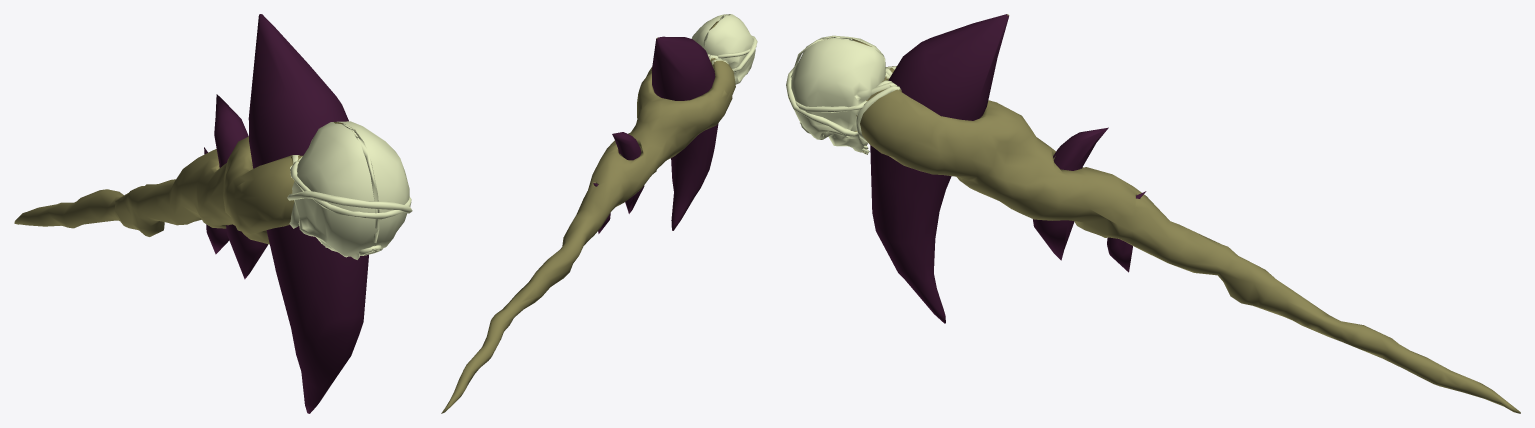
File: goblin_stick.fbx
The picture shows the model from 3 angles, left to right: view 1: azimuth 30°, elevation 25°; view 2: azimuth 150°, elevation 25°; view 3: azimuth 270°, elevation 25°; orthographic projection. The views are drawn at different scales.
Parts seen in each view (by area): view 1: stick; view 2: stick; view 3: stick.
Boxes of the visible parts, left/top/right/bottom form: stick: left=14, top=14, right=412, bottom=413; stick: left=441, top=14, right=757, bottom=413; stick: left=786, top=14, right=1520, bottom=413.
Bounding box in the file's own units: 20.48 × 58.97 × 106.
